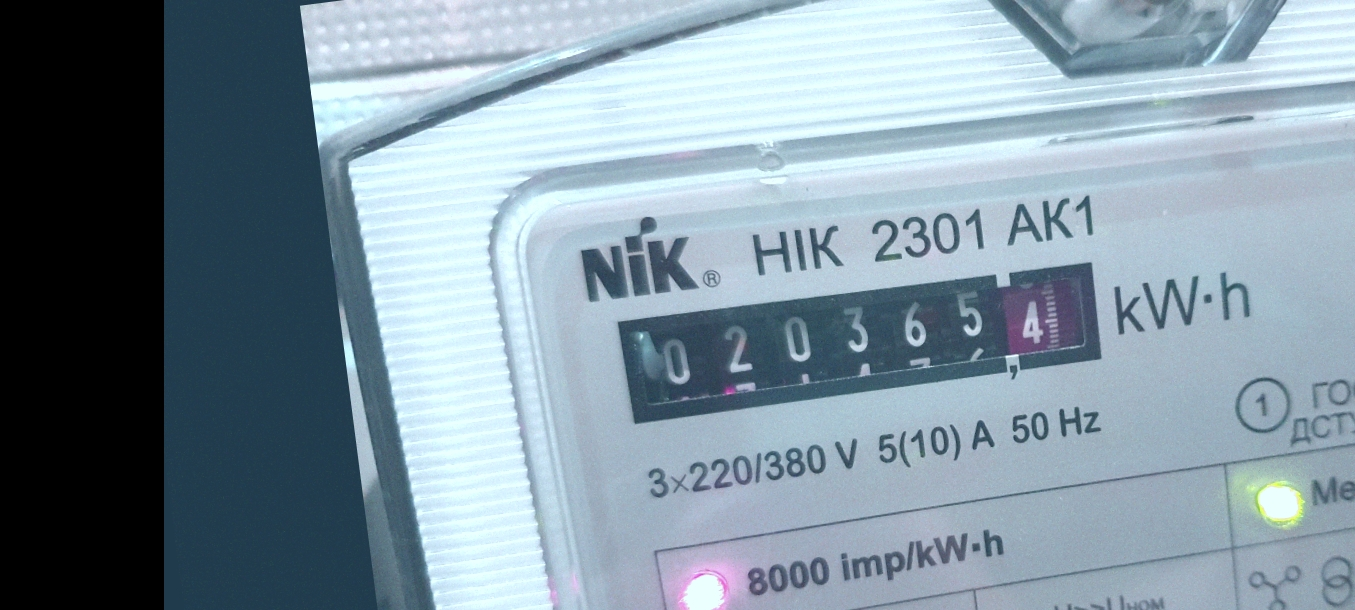0: (657, 331, 697, 390), (781, 312, 816, 365)
2: (720, 320, 756, 374)
3: (839, 303, 874, 355)
4: (1016, 295, 1046, 346)
5: (955, 288, 988, 338)
6: (898, 296, 930, 349)
screen: (602, 240, 1123, 442)
